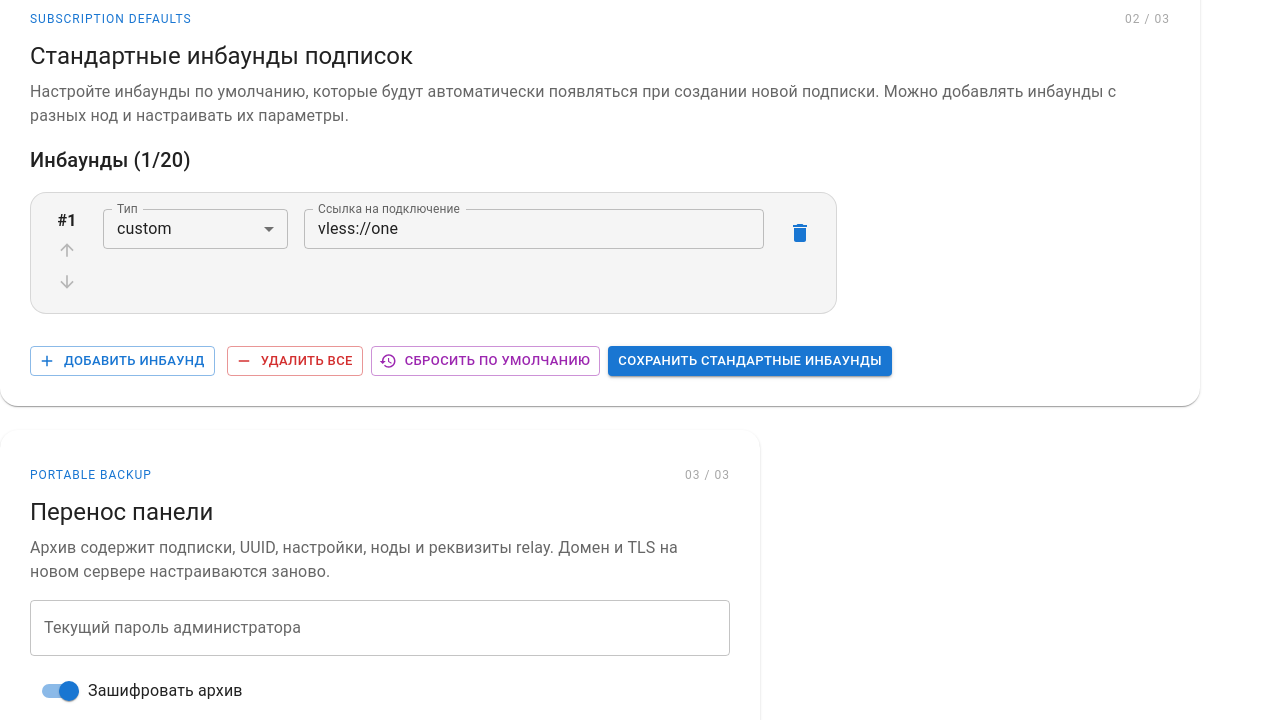
Test case: SettingsPage › resets standard inbounds to defaults on clicking reset
(page scrolled)
Expected: the field showing "vless://one" is shown, [304,209,764,249]
Click the button "Сбросить по умолчанию".
click(486, 361)  # box [371,346,600,376]
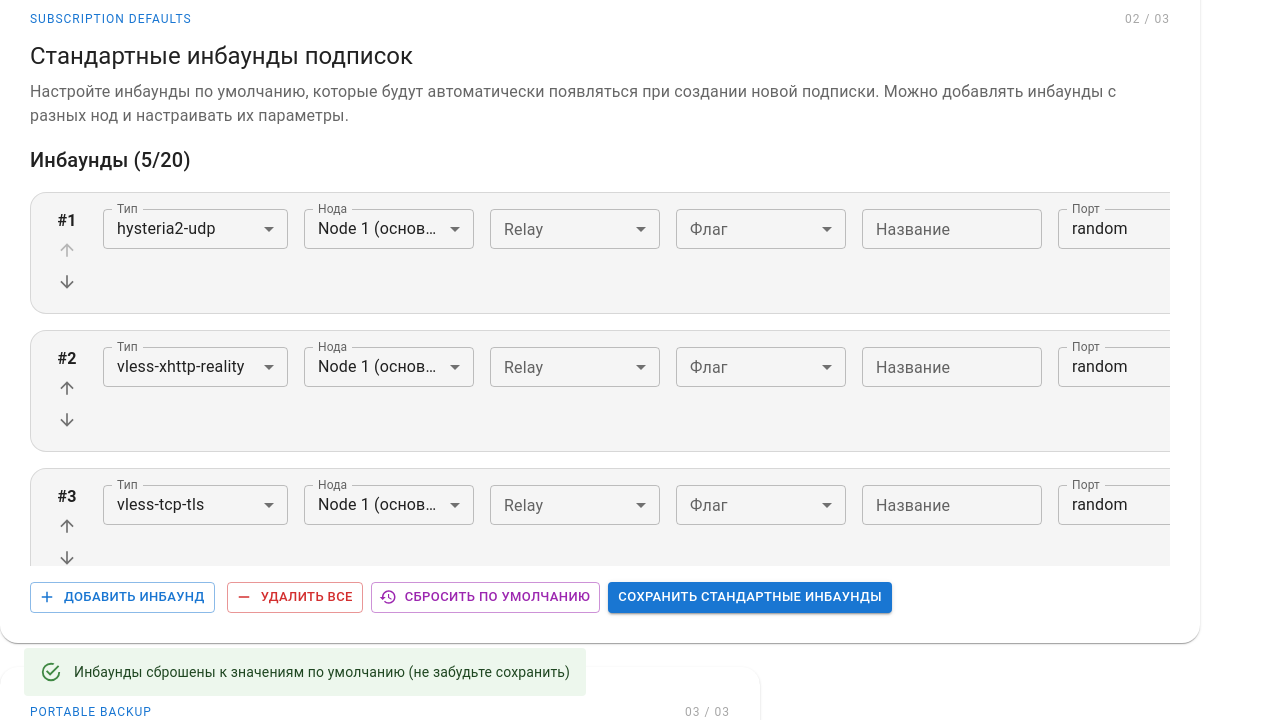
Now the text "Инбаунды сброшены к значениям по умолчанию (не забудьте сохранить)" is shown, box [74,664,570,680]
Now the heading "Инбаунды (5/20)" is shown, box [30,148,191,172]
